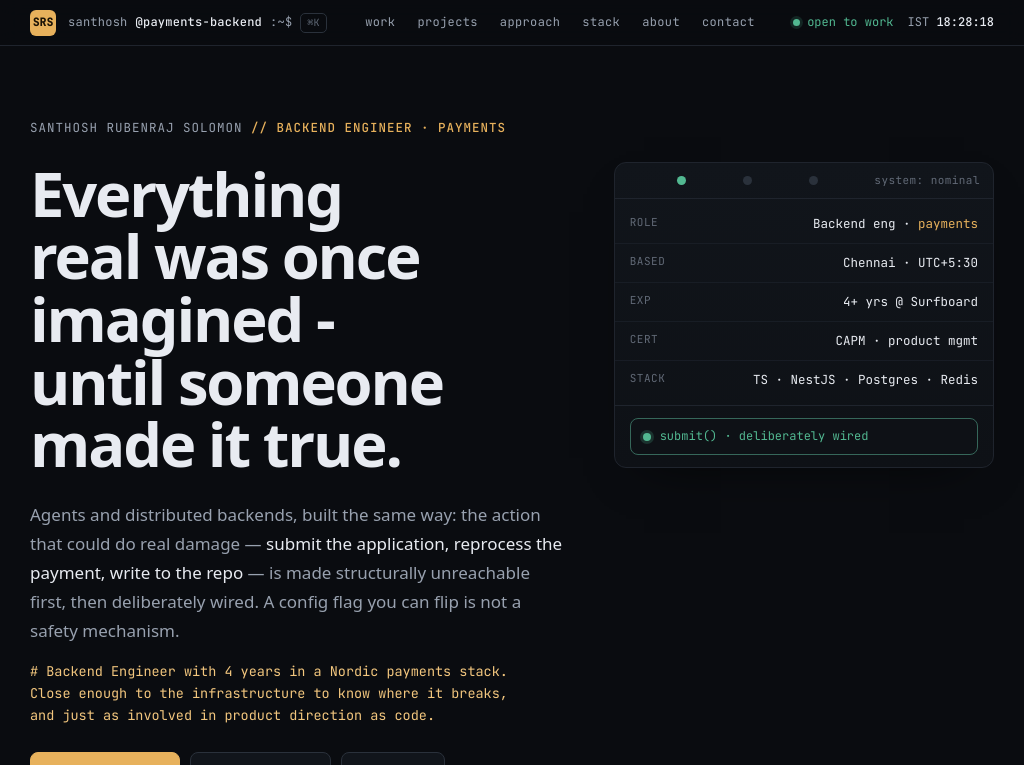
Test case: suggestions › Tab completes the highlighted suggestion
This screenshot has width=1024, height=765.
Click the button titled "Command palette (⌘K)" at point(197, 22), box [68,12,327,32]
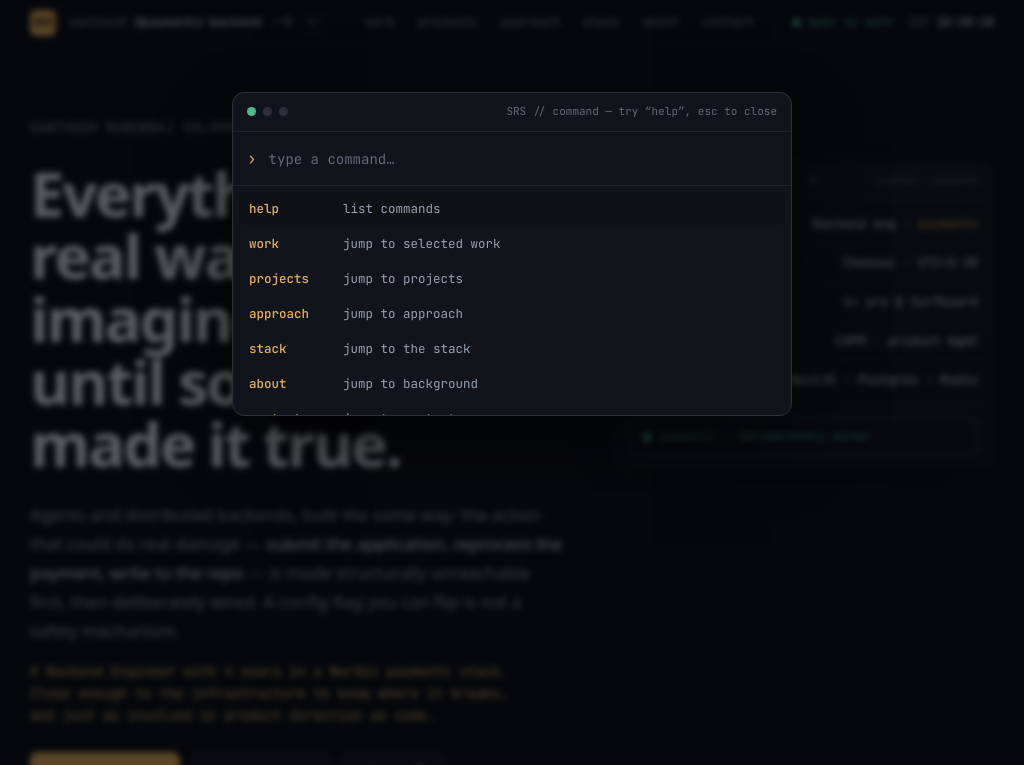
Type "wh" into the field labelled "command" at point(522, 158), box [267,148,777,168]
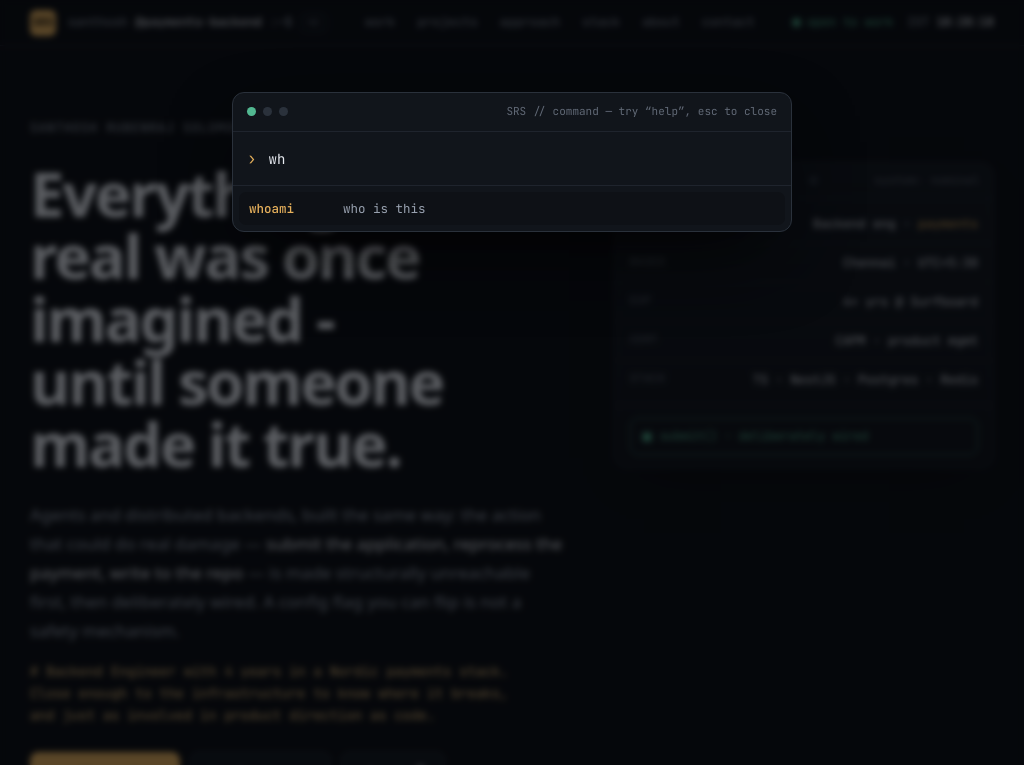
Press Tab
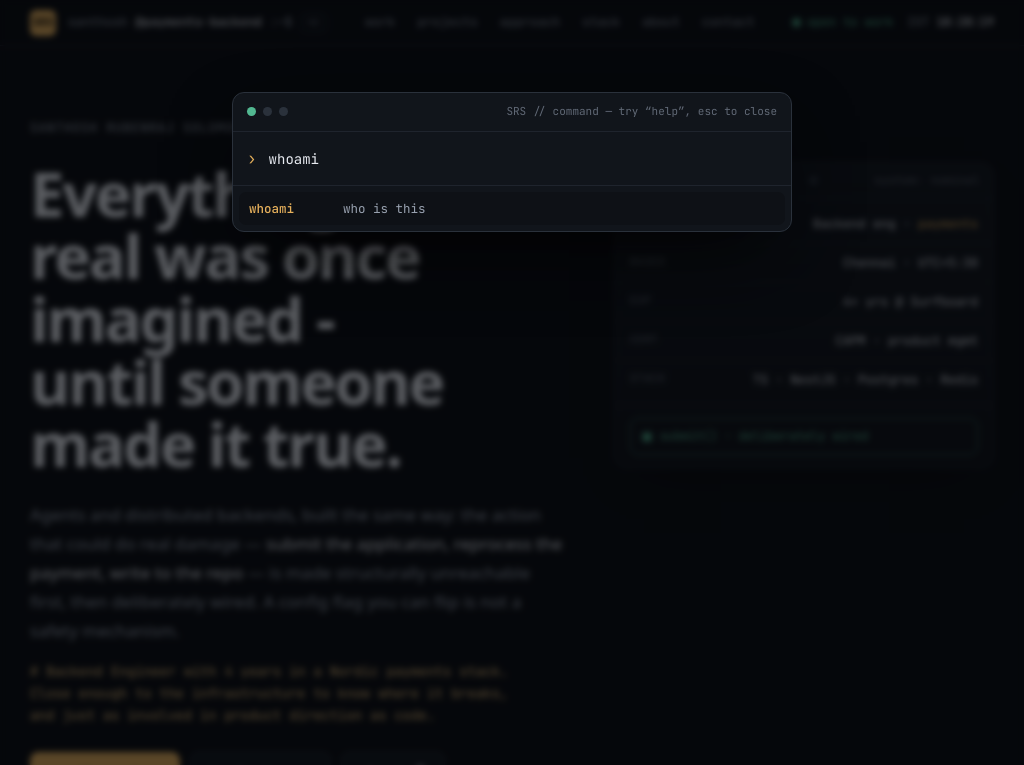
Check: the dialog named "Command palette" is shown, box [232,92,792,232]
Check: the field named "command" holds "whoami", box [267,148,777,168]
